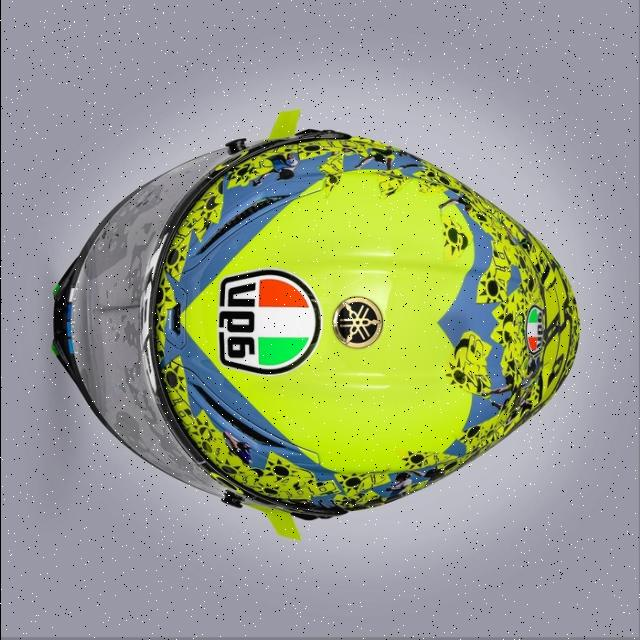Helmet: (48, 131, 580, 538)
